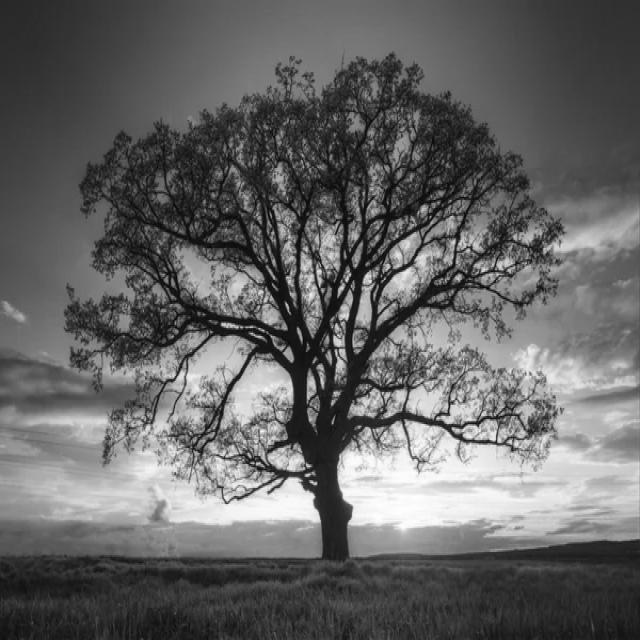Tree: (65, 54, 564, 561)
